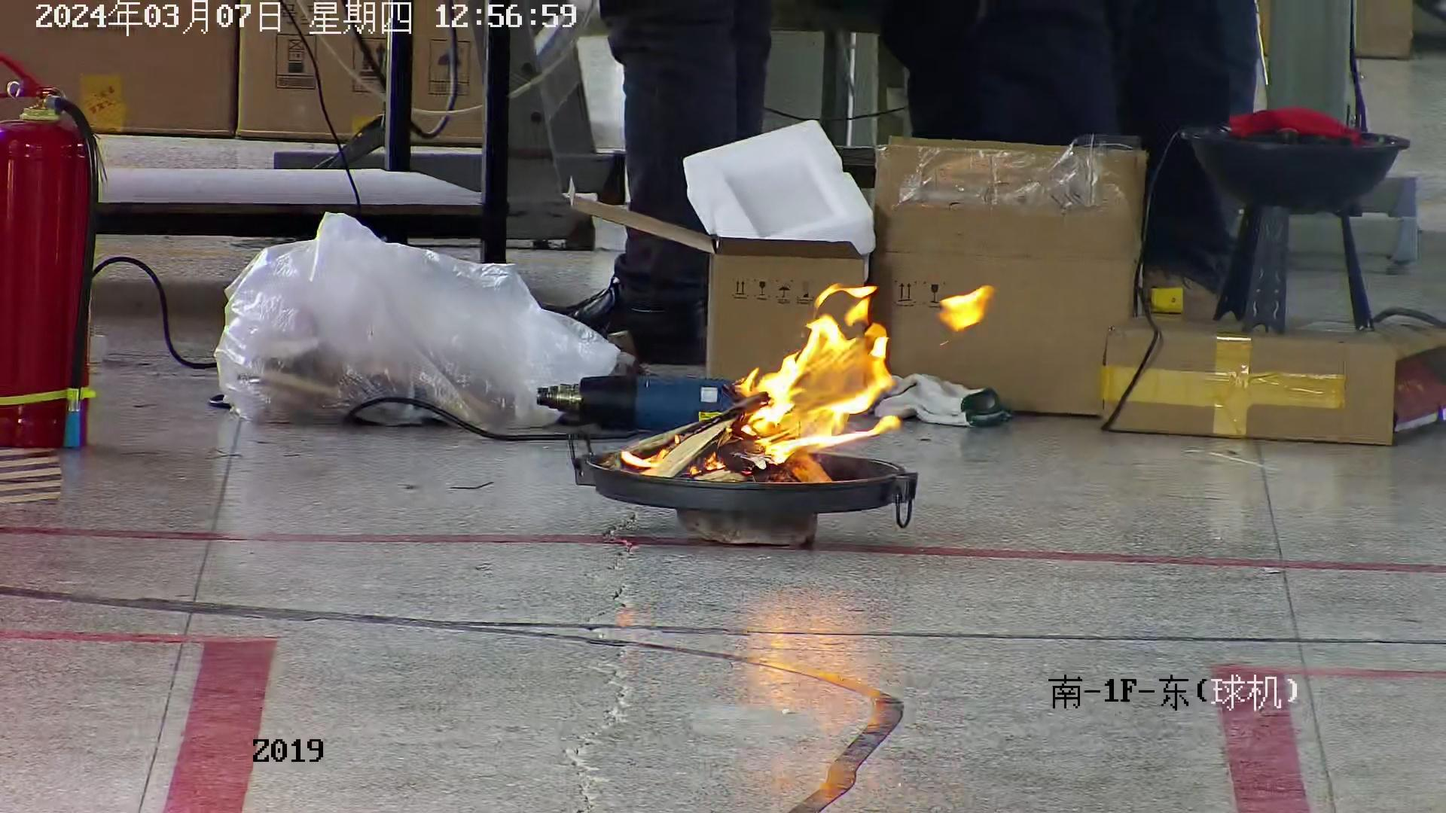fire: (734, 285, 899, 480), (621, 432, 681, 471), (947, 286, 992, 329)
